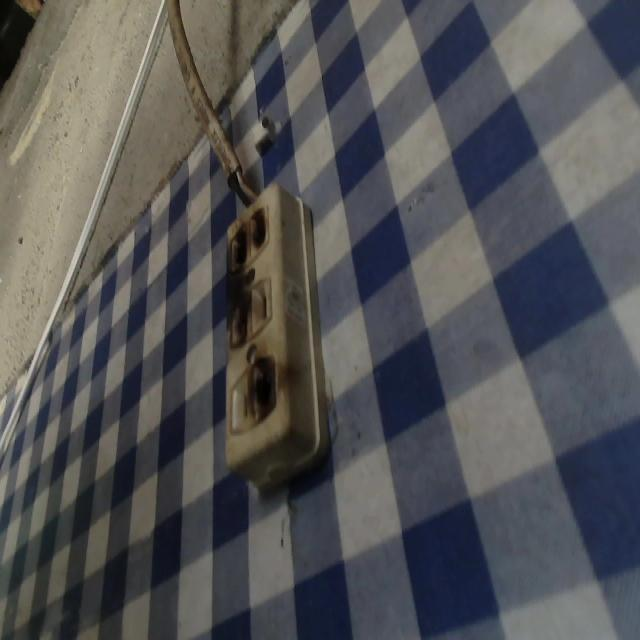-: (225, 201, 274, 268), (249, 354, 277, 422), (226, 287, 254, 348)
